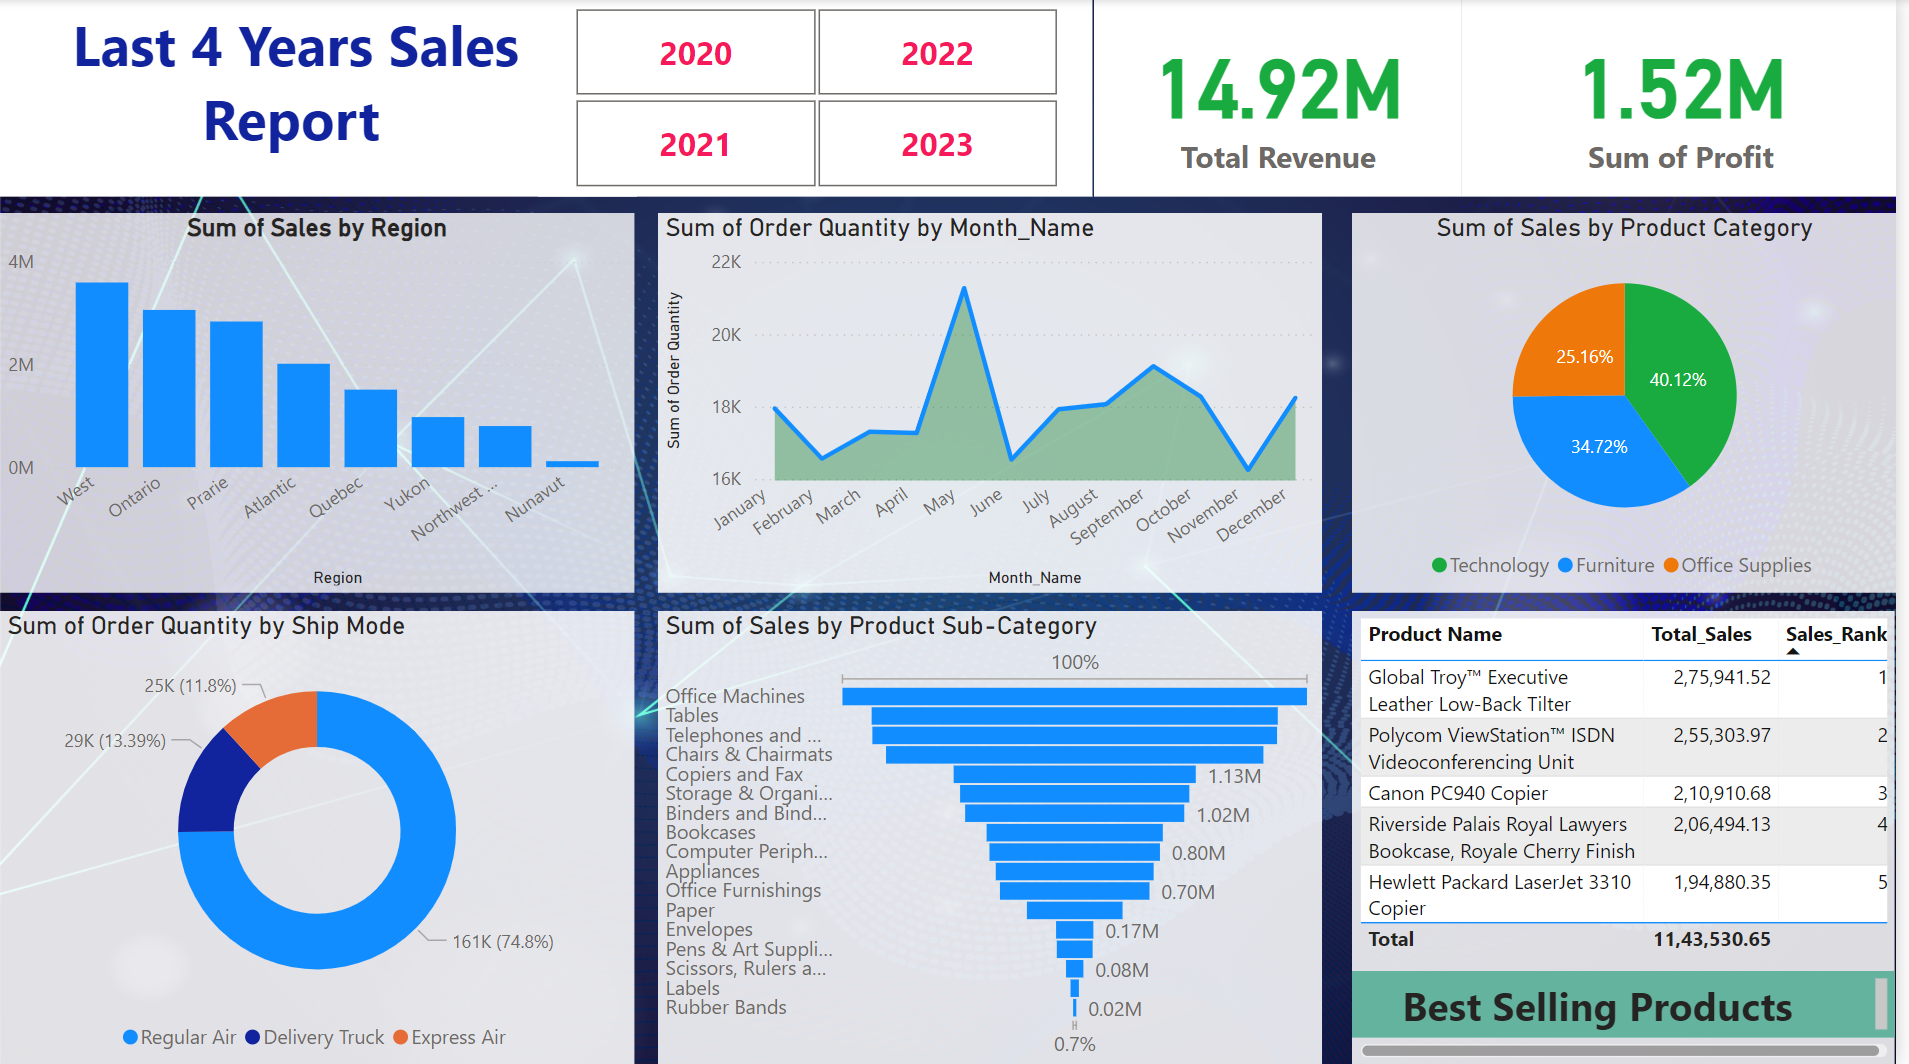

This screenshot's page, from the dashboard's own definition file:
{"tool":"powerbi","page":{"name":"Dashboard","canvas":[1280,720],"ordinal":0},"visuals":[{"type":"clusteredColumnChart","fields":{"Category":["Orders.Region"],"Y":["Sum(Orders.Sales)"]},"box":[0,144.7,428.3,256.7],"z":0},{"type":"textbox","box":[0,0,430,133.3],"z":1000},{"type":"stackedAreaChart","fields":{"Category":["DimCalender.Month_Name"],"Y":["Sum(Orders.Order Quantity)"]},"box":[445,144.7,448.3,256.7],"z":2000},{"type":"pieChart","fields":{"Category":["Orders.Product Category"],"Y":["Sum(Orders.Sales)"]},"box":[913.3,145,368.3,256.7],"z":3000},{"type":"slicer","fields":{"Values":["DimCalender.Year"]},"box":[364,0,374.6,133.5],"z":4000},{"type":"donutChart","fields":{"Category":["Orders.Ship Mode"],"Y":["Sum(Orders.Order Quantity)"]},"box":[0,413,428.3,306.7],"z":5000},{"type":"funnel","fields":{"Category":["Orders.Product Sub-Category"],"Y":["Sum(Orders.Sales)"]},"box":[445,413.3,448.3,306.7],"z":6000},{"type":"card","fields":{"Values":["Sum(Orders.Profit)"]},"box":[987.3,0,295.7,133.5],"z":7000},{"type":"tableEx","fields":{"Values":["Orders.Product Name","All_Measures.Total_Sales","All_Measures.Dynamic_Sales_Rank"]},"box":[913.3,413.3,366.7,306.7],"z":8000},{"type":"textbox","box":[913.3,656.7,366.7,45],"z":9000},{"type":"card","fields":{"Values":["All_Measures.Total Revenue"]},"box":[738.6,0,248.7,133.5],"z":10000}]}

Visuals, with their boxes in screenshot pixels (x1, y1, x2, y2), scaled from the page's 1280x720 canvas onto the 1909x1064 screenshot:
clusteredColumnChart - Orders.Region x Sum(Orders.Sales): Rect(0, 214, 639, 593)
textbox: Rect(0, 0, 641, 197)
stackedAreaChart - DimCalender.Month_Name x Sum(Orders.Order Quantity): Rect(664, 214, 1332, 593)
pieChart - Orders.Product Category x Sum(Orders.Sales): Rect(1362, 214, 1908, 594)
slicer - DimCalender.Year: Rect(543, 0, 1102, 197)
donutChart - Orders.Ship Mode x Sum(Orders.Order Quantity): Rect(0, 610, 639, 1063)
funnel - Orders.Product Sub-Category x Sum(Orders.Sales): Rect(664, 611, 1332, 1063)
card - Sum(Orders.Profit): Rect(1472, 0, 1908, 197)
tableEx - Orders.Product Name x All_Measures.Total_Sales: Rect(1362, 611, 1908, 1063)
textbox: Rect(1362, 970, 1908, 1037)
card - All_Measures.Total Revenue: Rect(1102, 0, 1472, 197)
